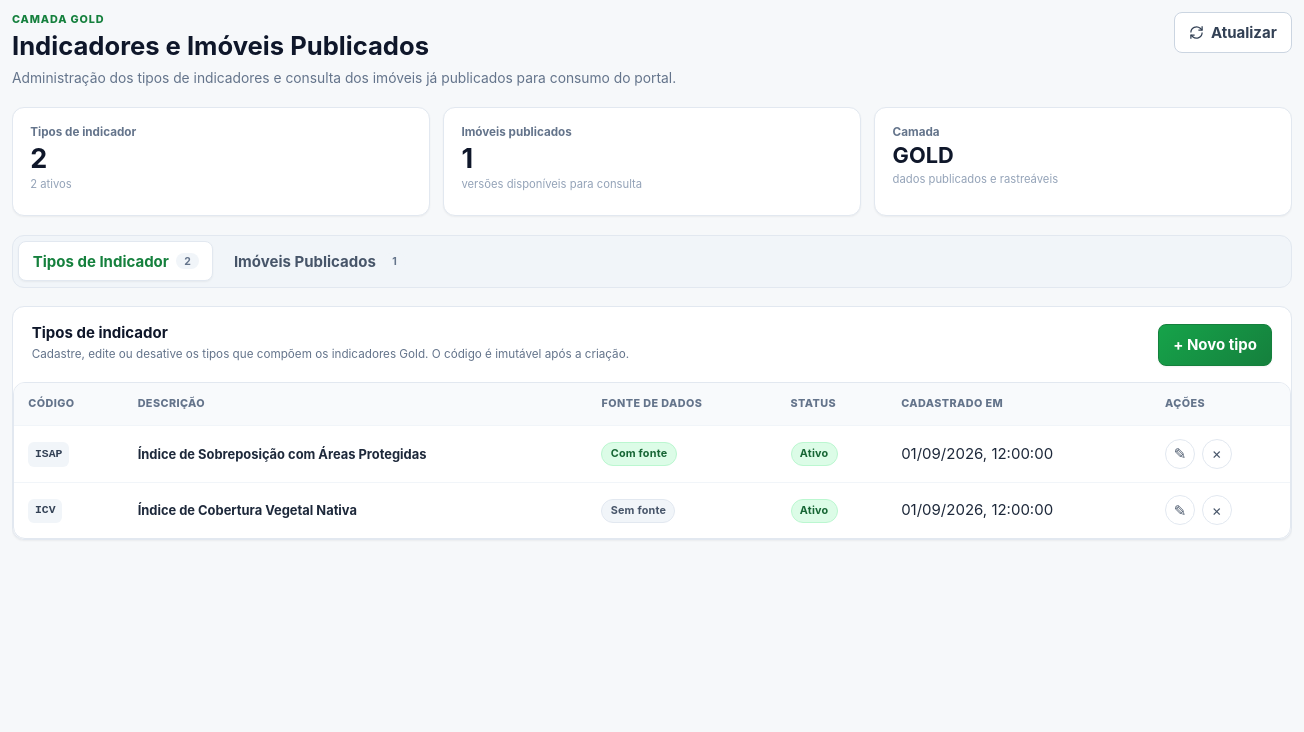
it: GoldView › desativa um tipo usando o soft-delete do backend
The image size is (1304, 732).
Click the button named "Desativar tipo de indicador". click: x=1217, y=454
box: [1202, 439, 1232, 469]
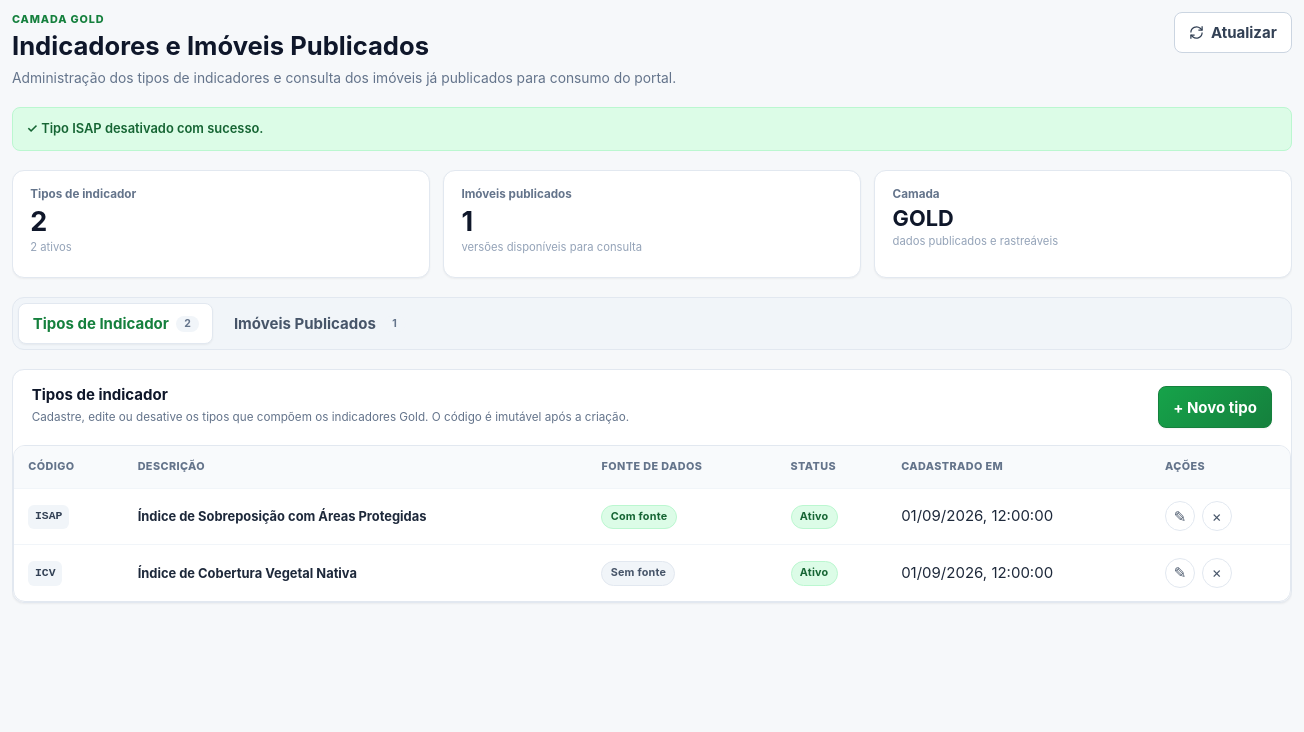
Expected: the text "Tipo ISAP desativado com sucesso." is shown, [26, 121, 263, 136]
